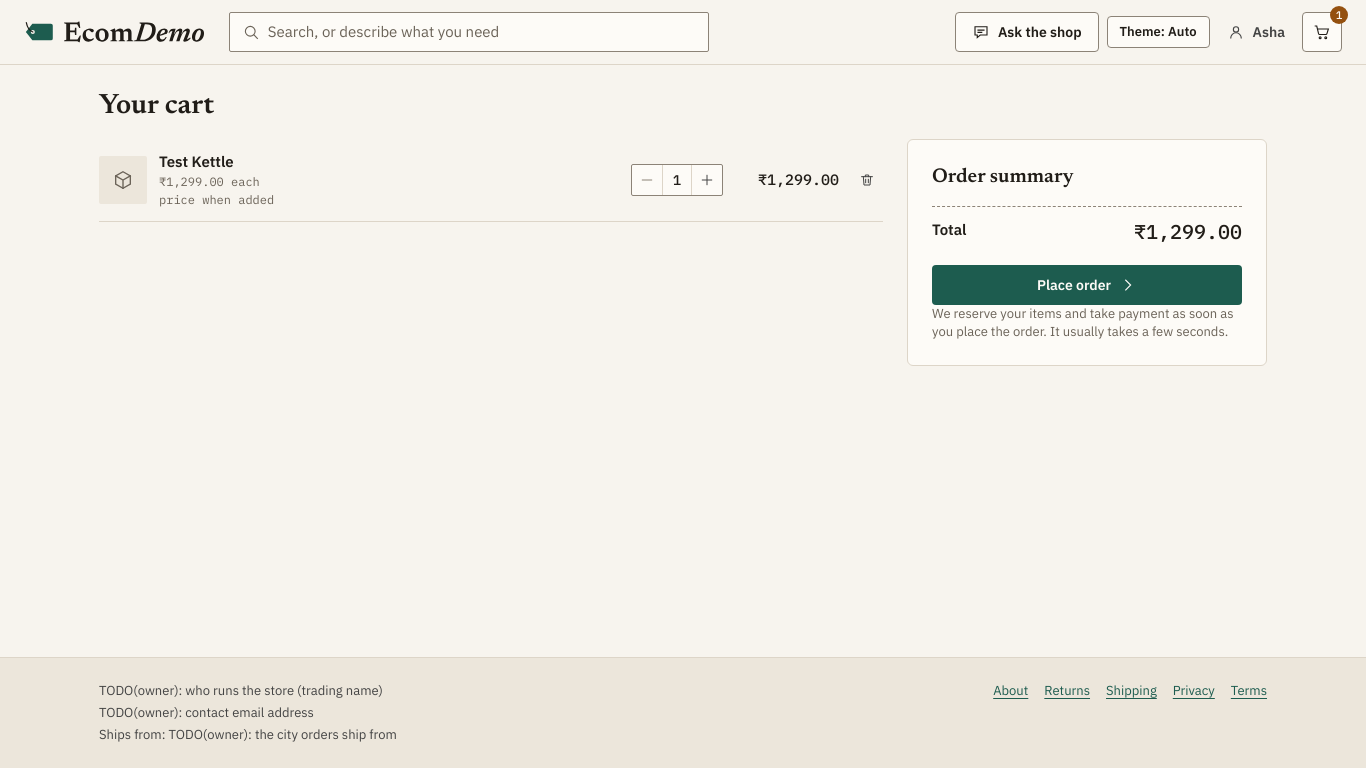
Scenario: the cart page › puts the quantity back and says why when the server refuses
The image size is (1366, 768).
Check: the heading "Your cart" is shown, box [99,89,214,123]
What coordinates should you click on to do the following:
click the button named "Increase"
I would click on:
 (707, 180)
Its box is [692,165,722,195].
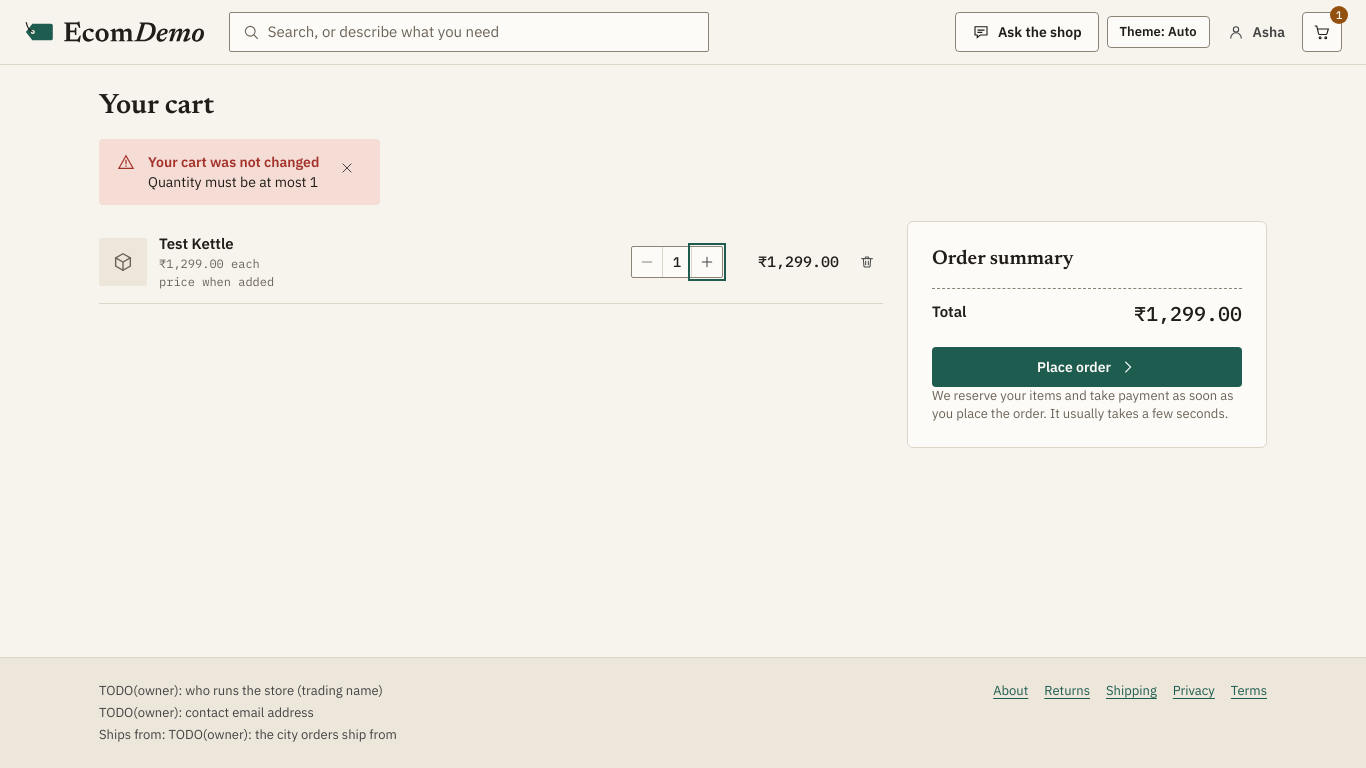
Check: the text "1" in the row of "price when added" is shown, box [673,253,681,271]
Check: the message shows "Quantity must be at most 1", box [148,173,318,191]
